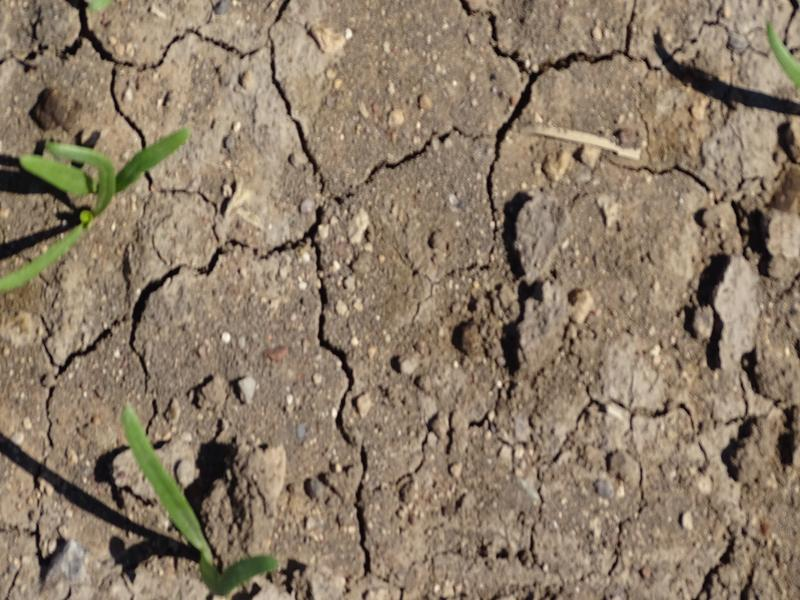Espinaca: (7, 125, 201, 282), (117, 404, 273, 585)
